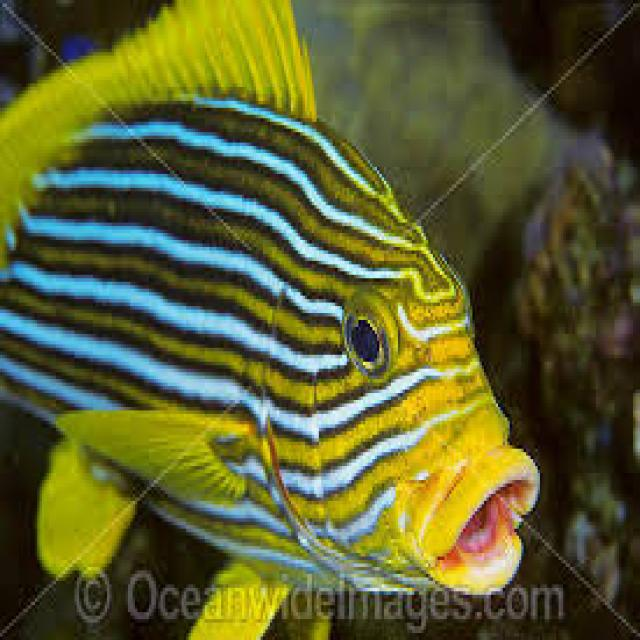RibbonedSweetlips: (0, 0, 542, 636)
